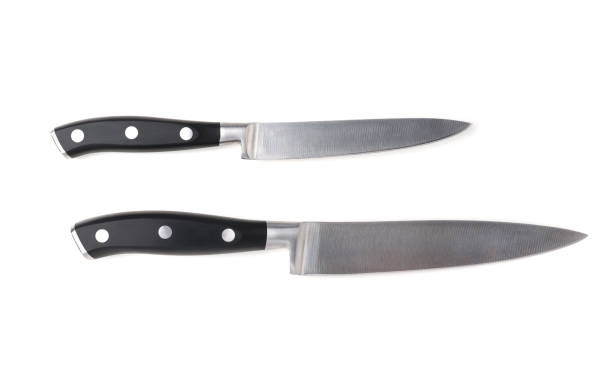knife: (69, 208, 591, 278), (49, 114, 472, 163)
